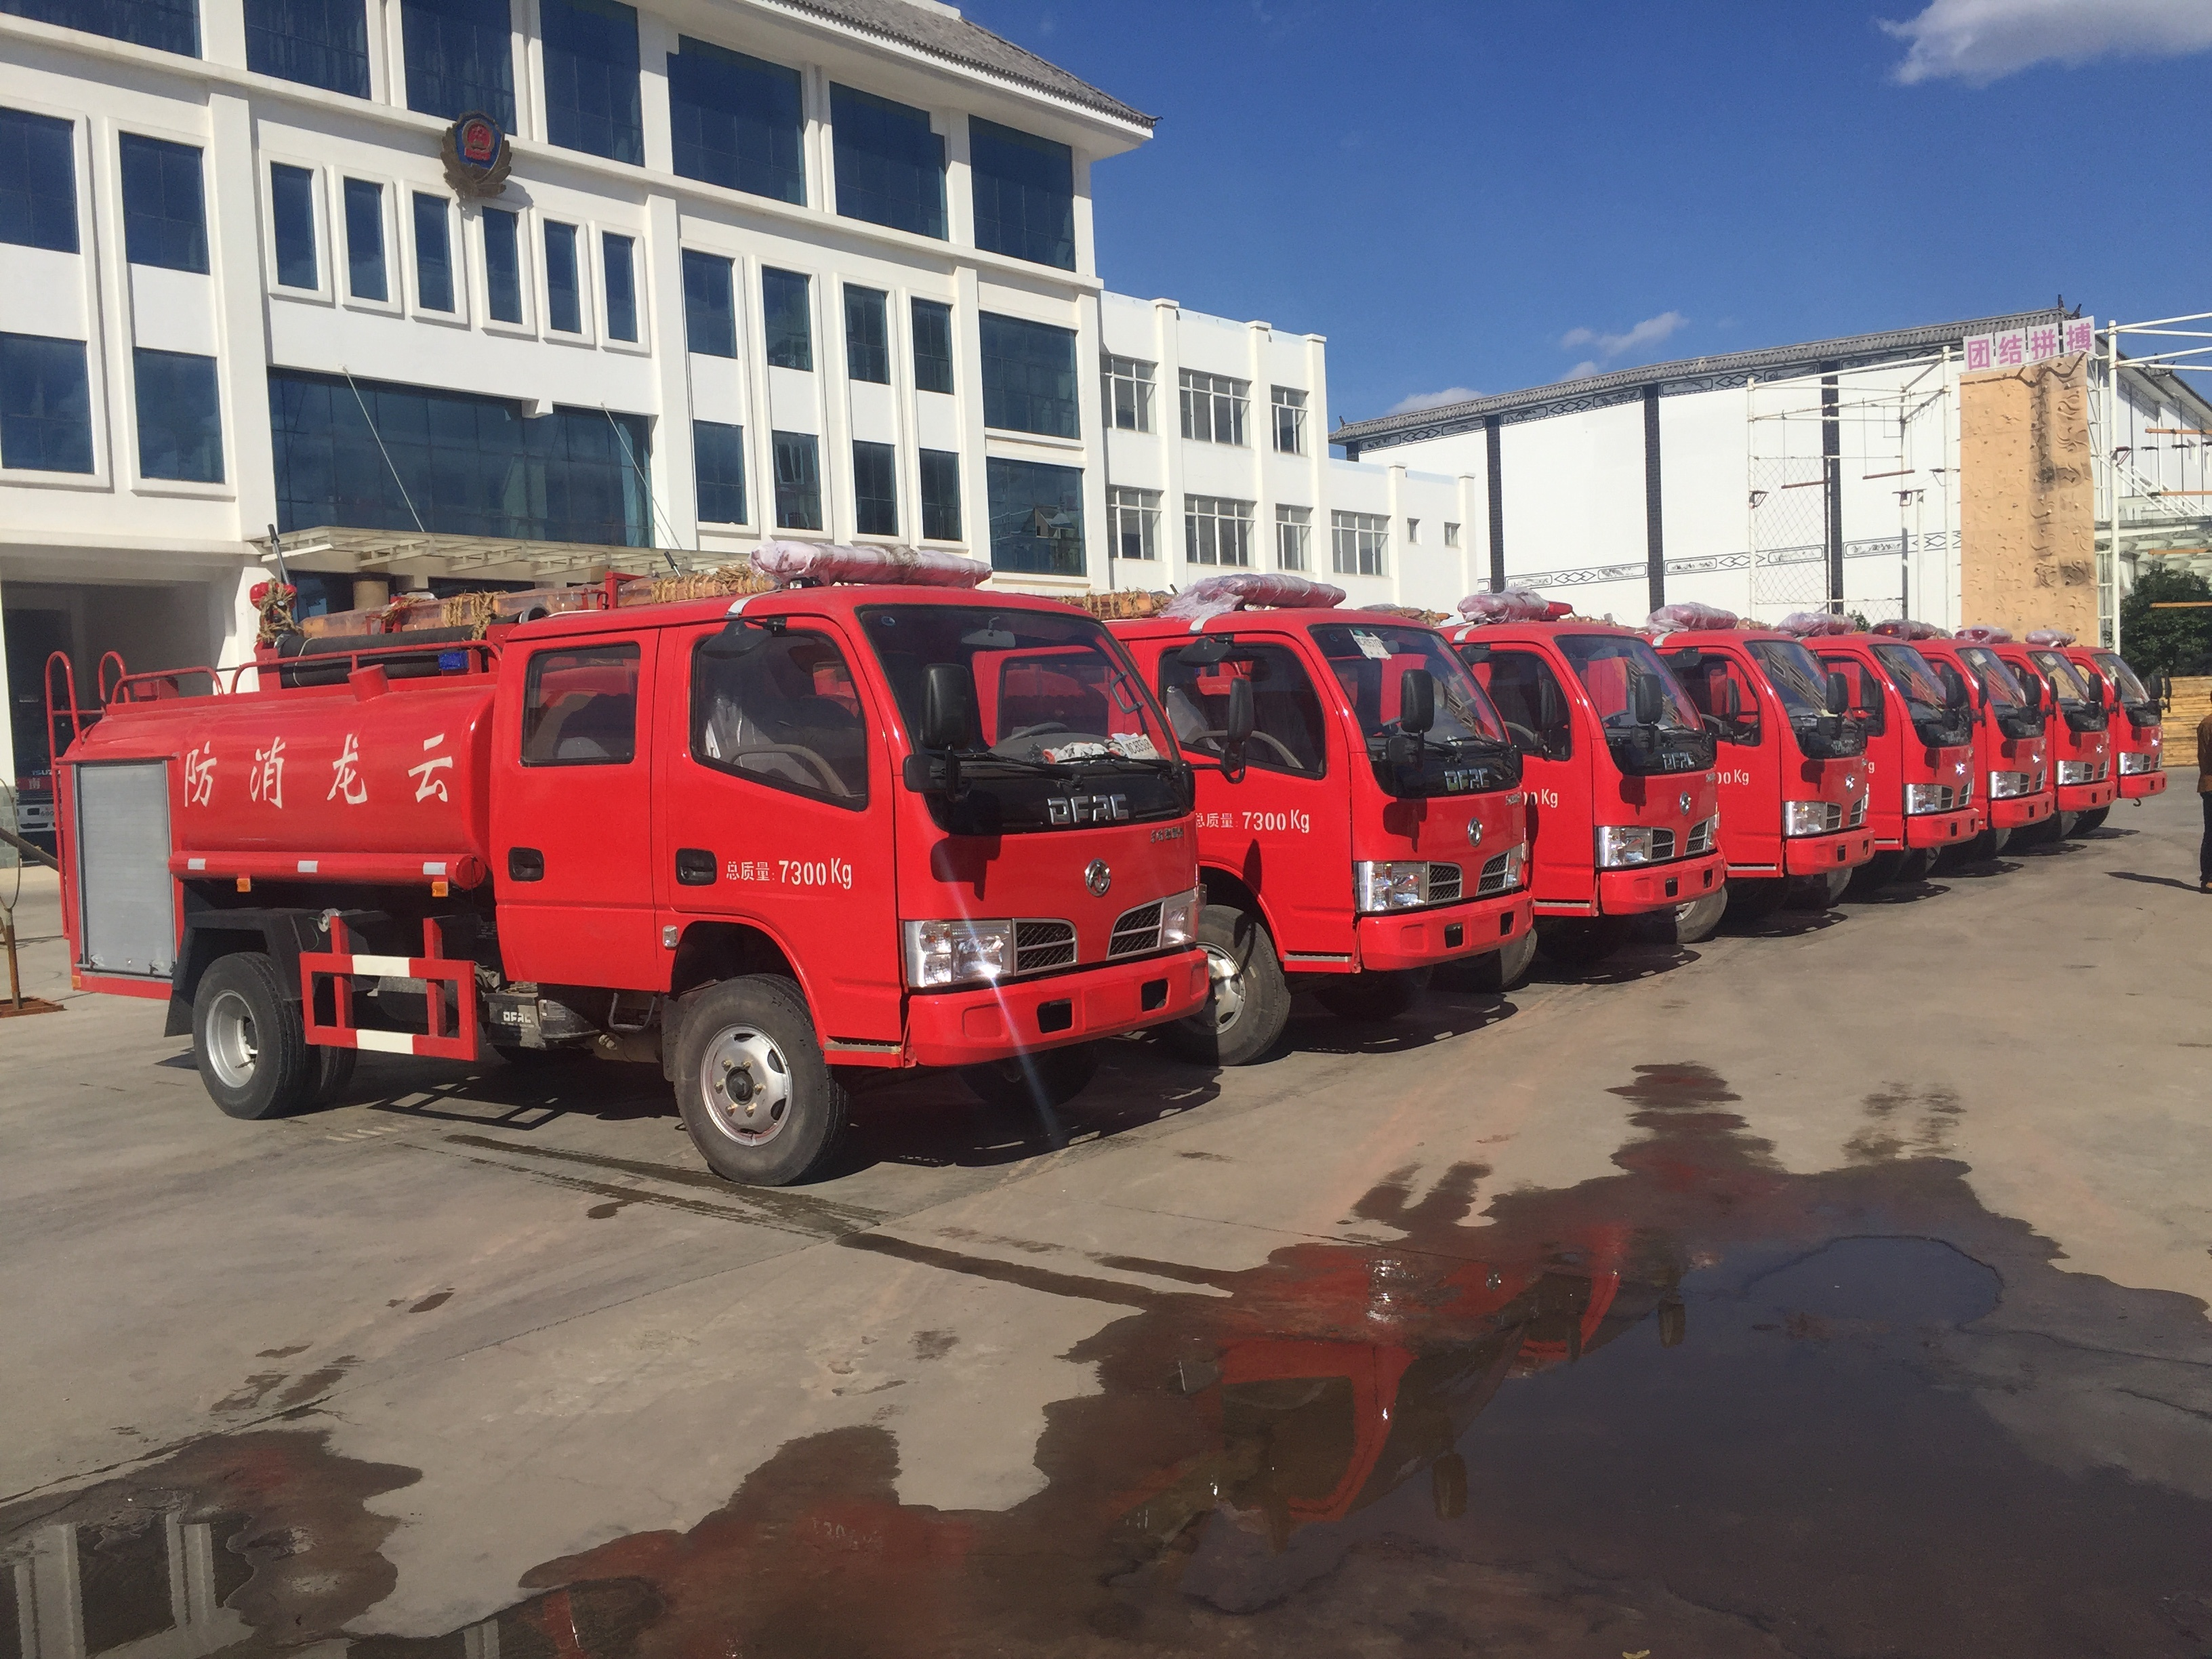fire engine: (91, 505, 1270, 1178), (1036, 568, 1555, 1000), (1416, 613, 1738, 931), (1660, 598, 1909, 901), (1817, 638, 2005, 850)
